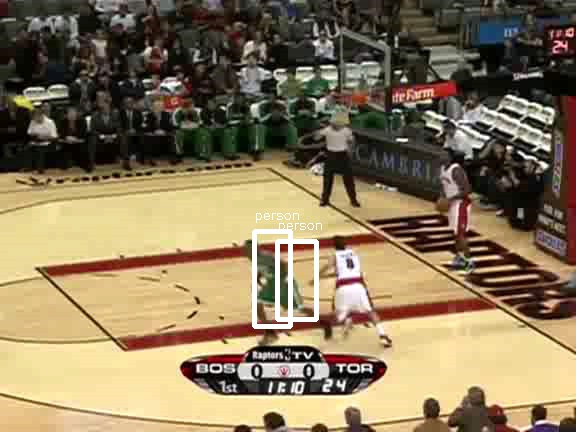person: (257, 241, 291, 322), (256, 241, 290, 322), (258, 241, 292, 322), (257, 240, 291, 321), (257, 242, 291, 323)
target_negative: (165, 89, 533, 294), (205, 356, 464, 427), (250, 227, 568, 251), (273, 362, 356, 386), (553, 324, 557, 417), (504, 111, 511, 142)
